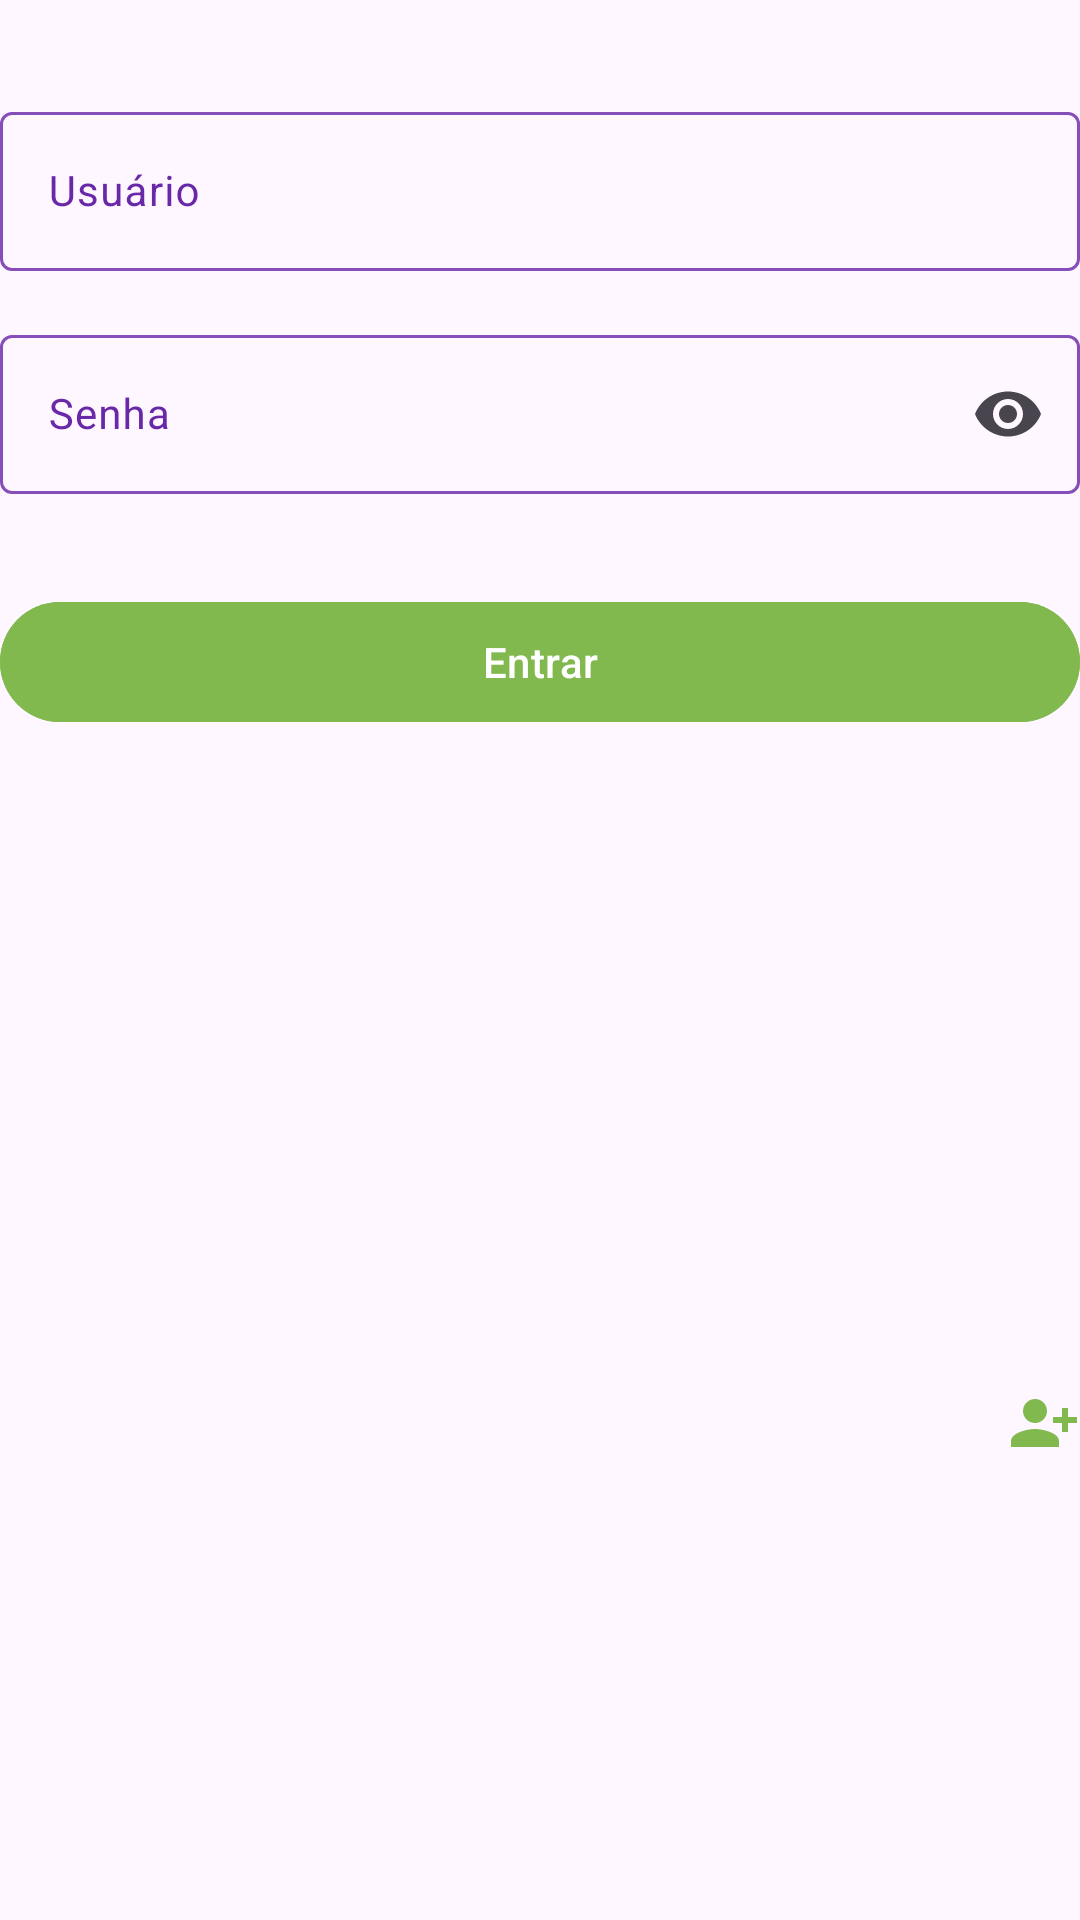

Screen size 1080*1920. Icon name, then its box in pixels as (x1, y1, x2, y2):
add user: (1011, 1399, 1077, 1447)
